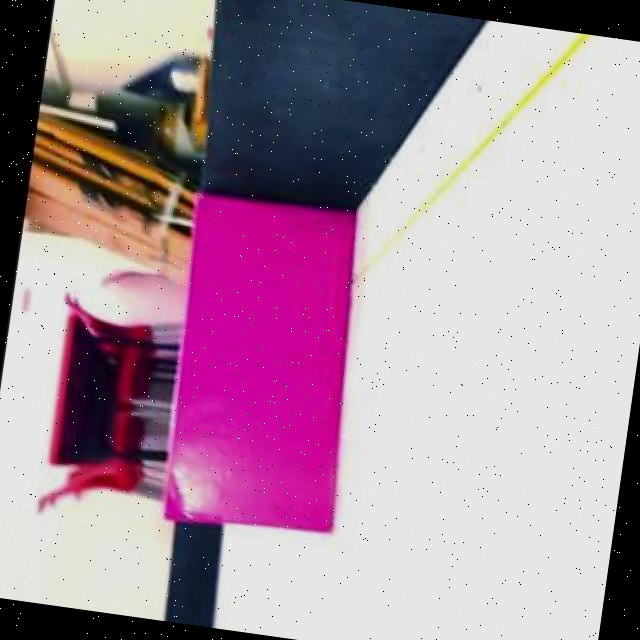xparking: (157, 193, 377, 546)
